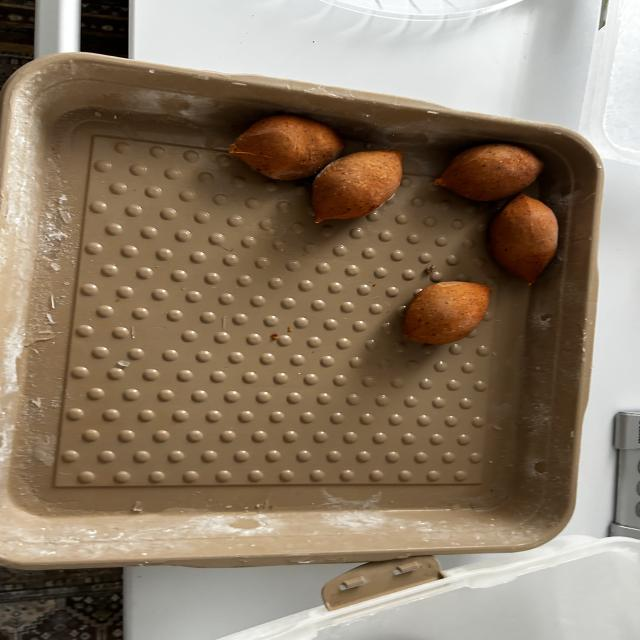kobi: (226, 114, 346, 181), (436, 142, 550, 201), (494, 194, 566, 286), (316, 148, 406, 220), (408, 281, 496, 346)
